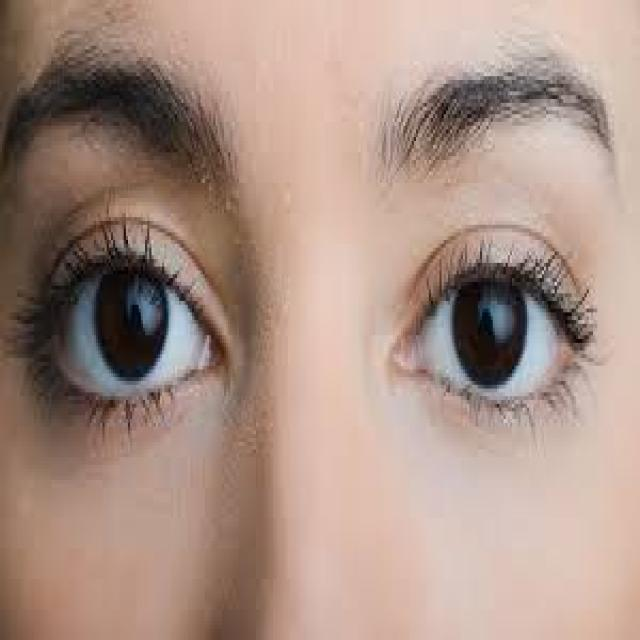Eyes-iris: (449, 260, 529, 395), (92, 252, 173, 384)
